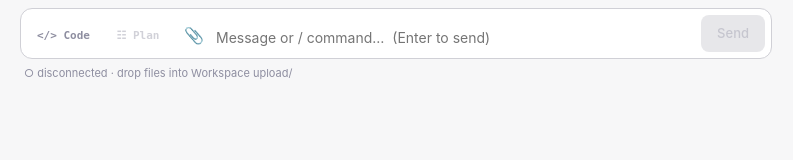
Test: slash command menu › shows matching commands when the user types slash
Type "/" into the text box with test id "chat-input-field" at [456, 37], box [216, 23, 695, 52]
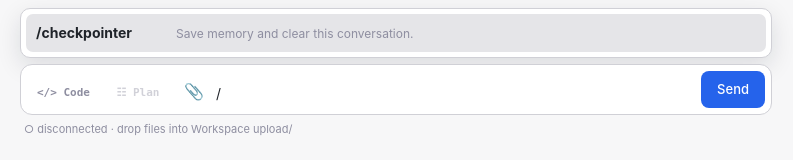
Expected: the list is shown, [20, 8, 772, 58]
Expected: the option with test id "slash-command-checkpointer" shows "/checkpointer", [26, 14, 766, 52]
